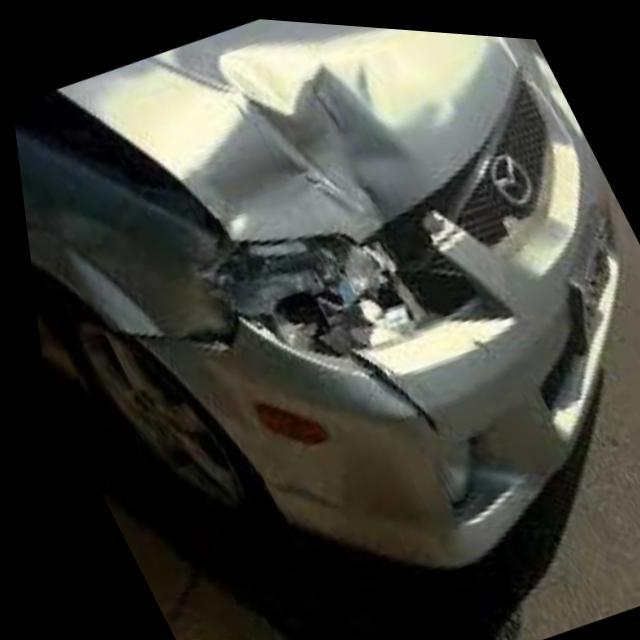dislocated part: (14, 37, 540, 450)
